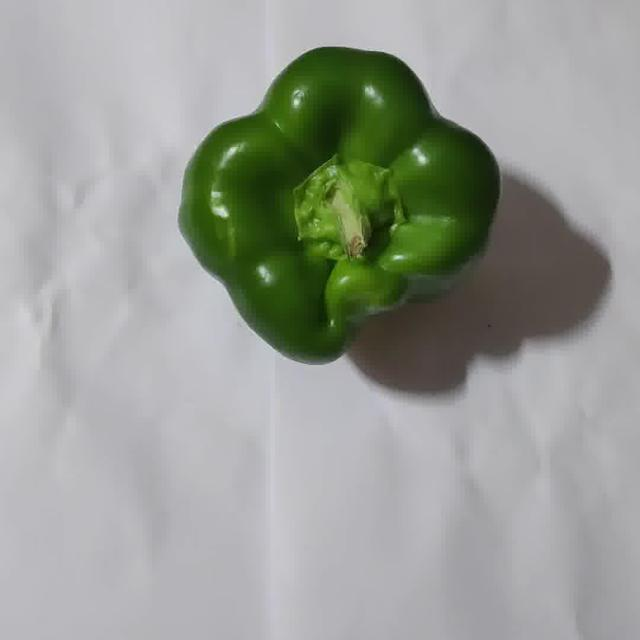Bell Pepper: (180, 47, 500, 361)
